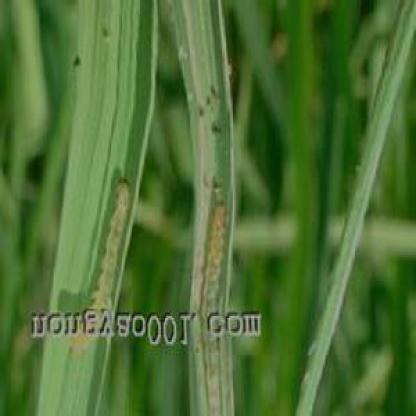leaf-folder: (72, 166, 134, 302), (195, 171, 240, 304)
